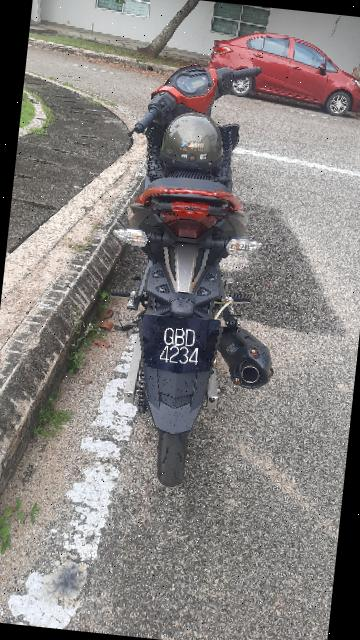License_Plate: (111, 297, 264, 409)
motorcycle: (53, 42, 310, 510)
